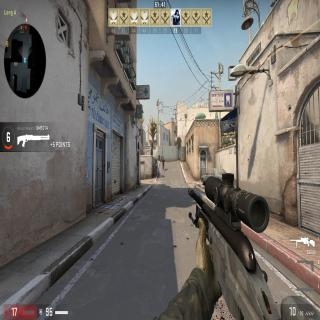T-Body: (150, 140, 154, 155), (162, 156, 166, 170)
T-Head: (162, 156, 164, 158), (152, 140, 152, 142)
